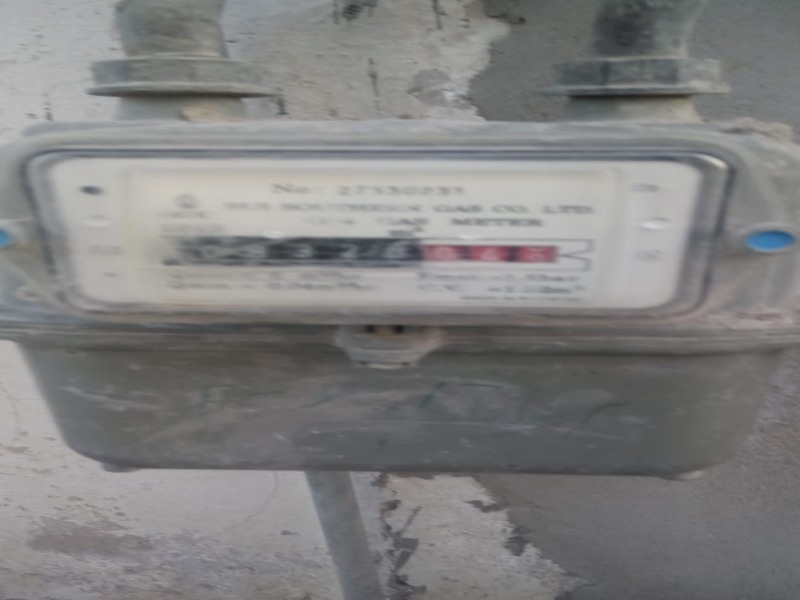ssgc: (179, 234, 581, 270)
